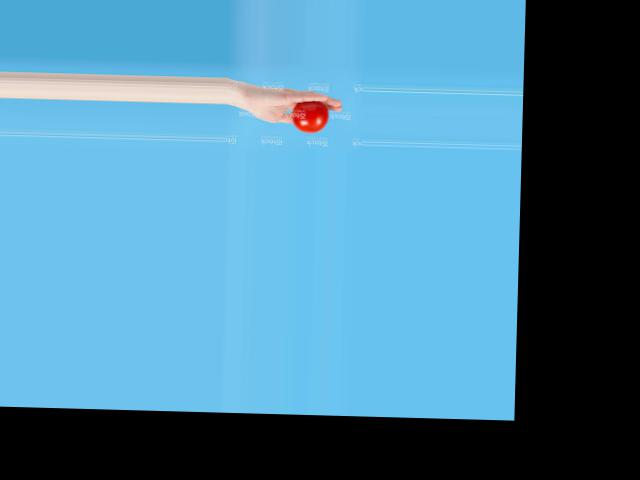tomato: (291, 100, 328, 132)
